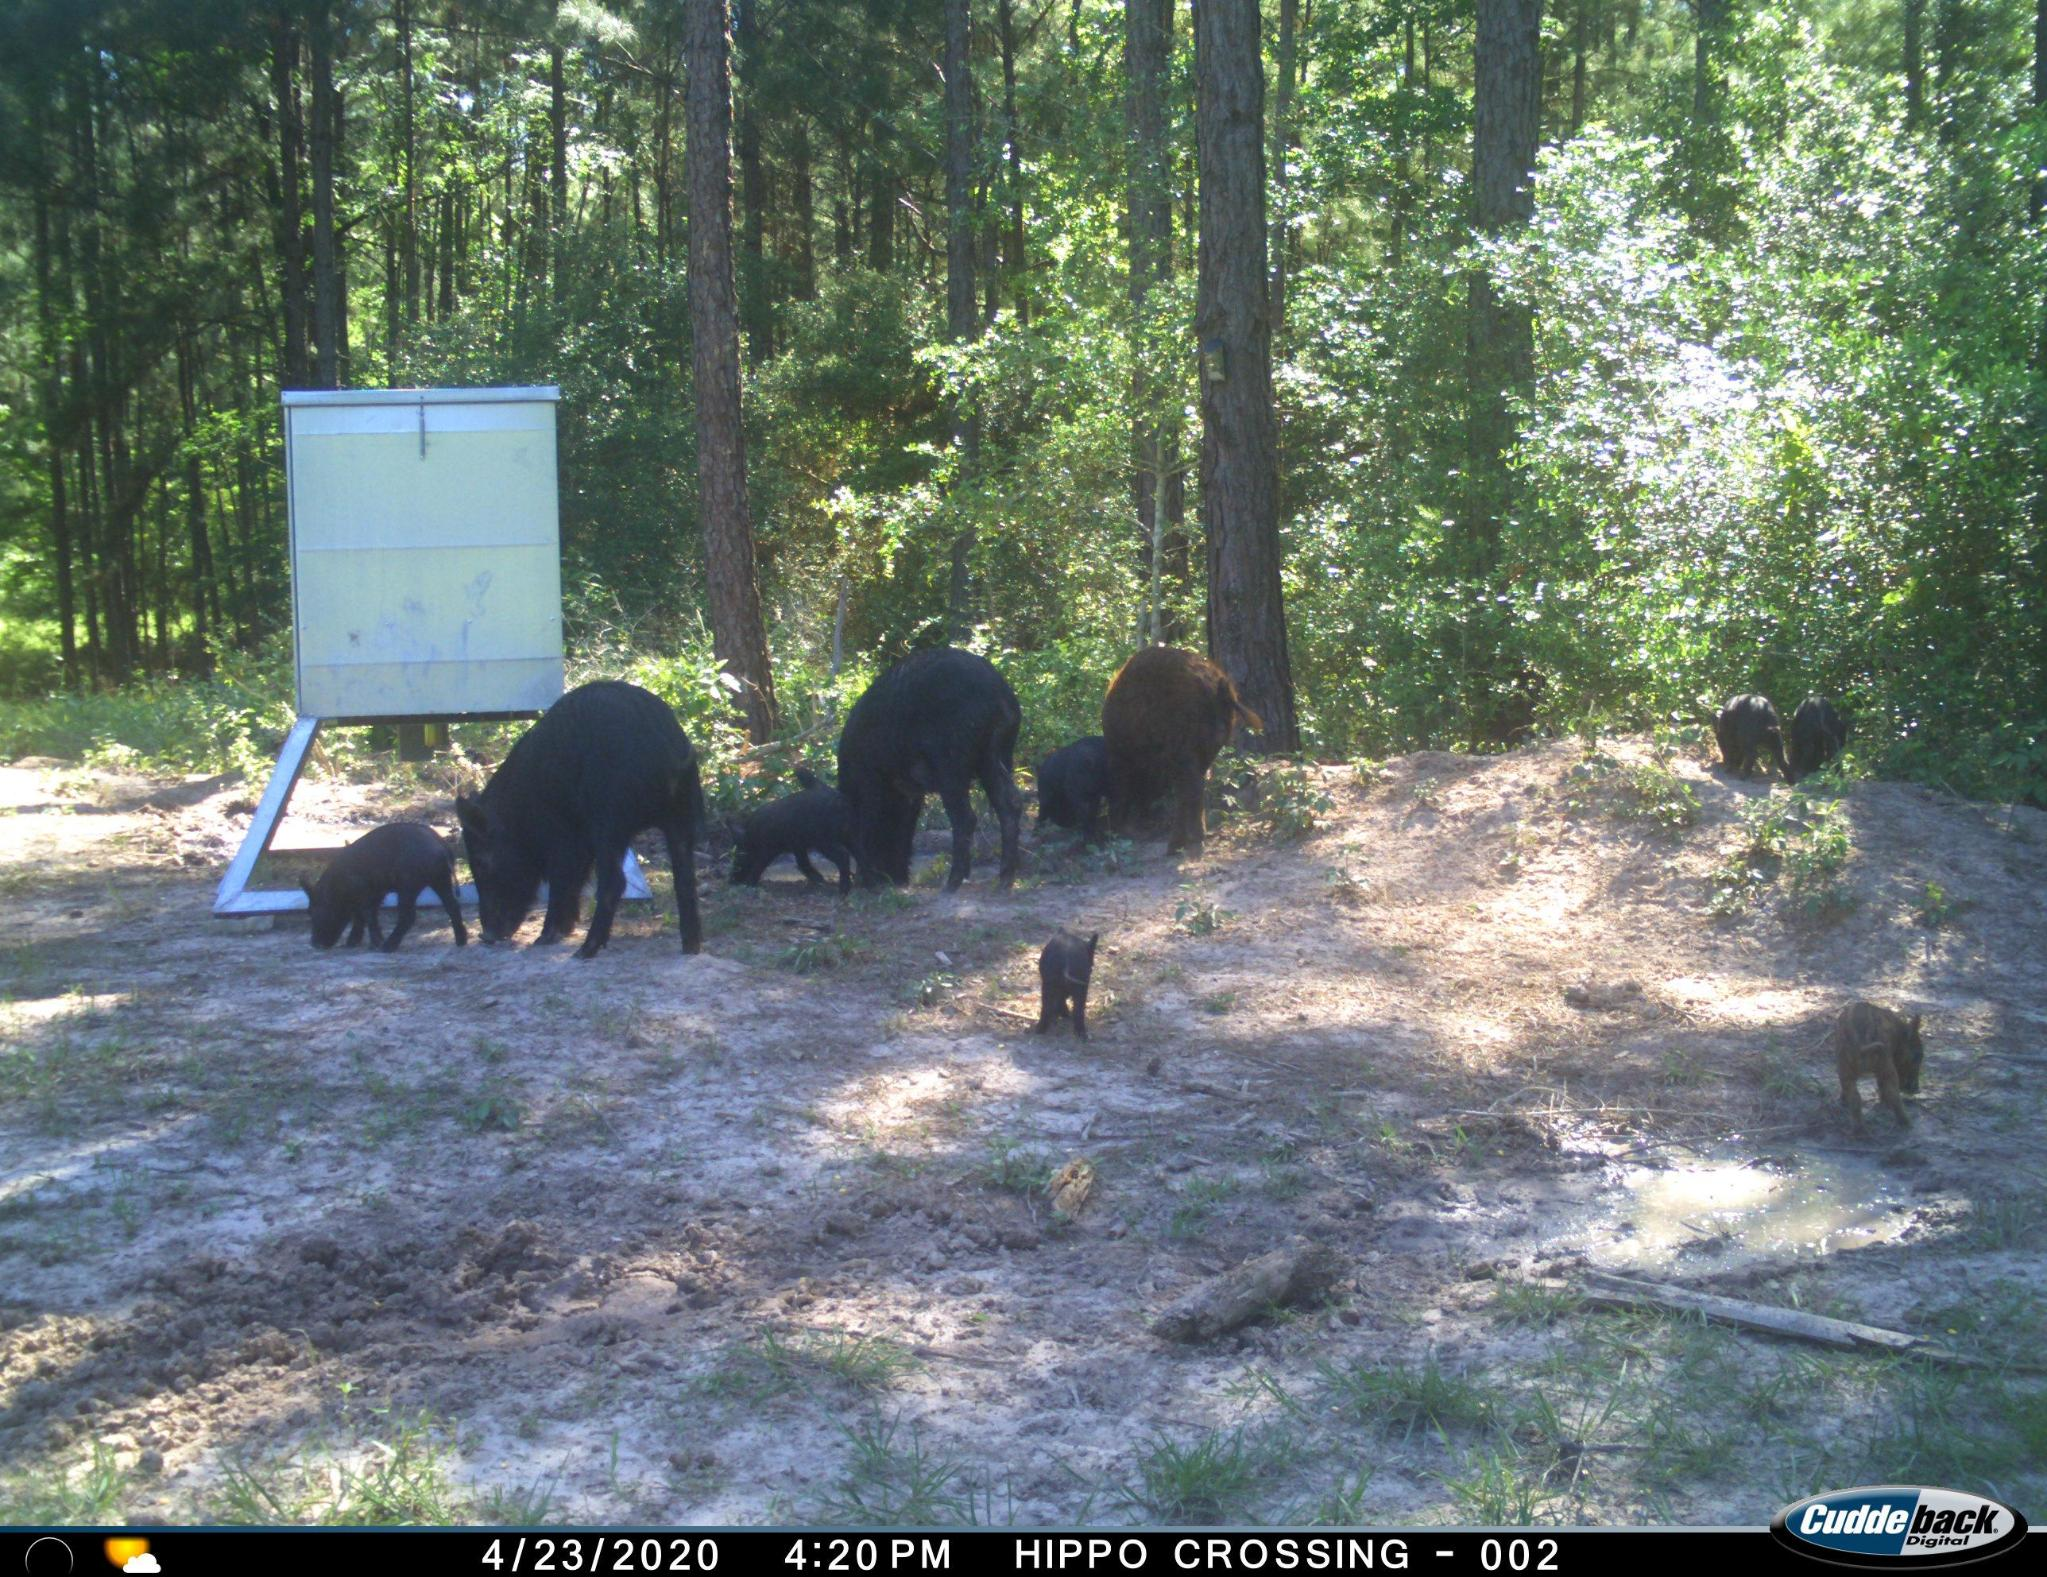Hog: (459, 674, 724, 962), (833, 639, 1037, 896), (1100, 643, 1259, 876), (291, 817, 460, 956), (1828, 996, 1936, 1145), (729, 772, 850, 891), (1037, 732, 1120, 856), (1032, 923, 1101, 1045), (1706, 684, 1782, 790), (1790, 691, 1852, 790)
